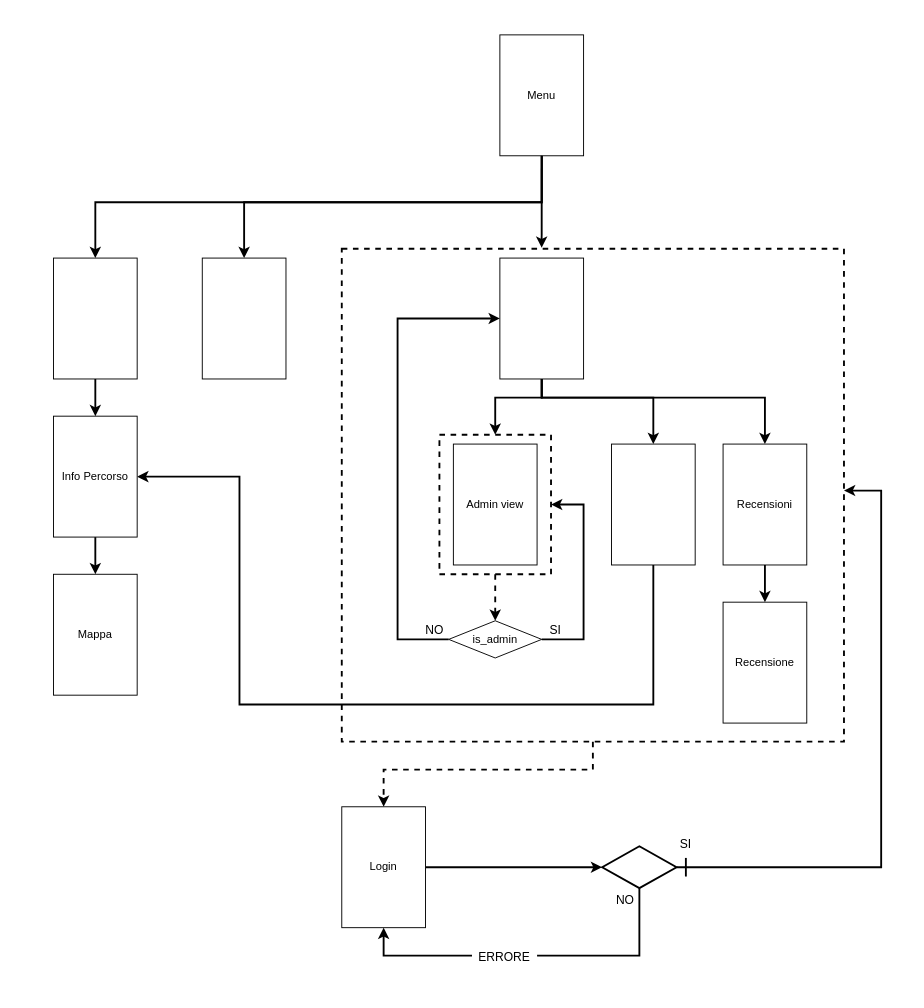
The diagram is 924 pixels wide and 1008 high, and some of its shapes have lost their labels. Each missing label, with the centre of its shape:
Impostazioni: the point at 243,318
Lista Percorsi: the point at 95,318
Preferiti: the point at 653,504
Profilo: the point at 541,318
